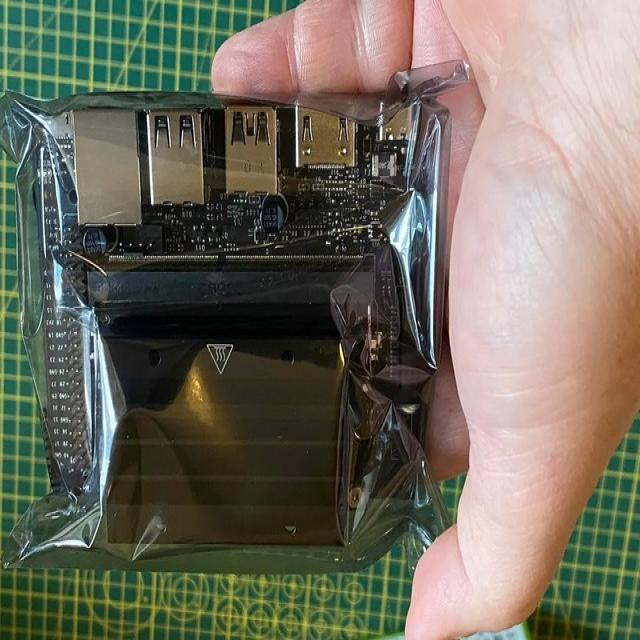Jetson Nano: (32, 104, 424, 550)
